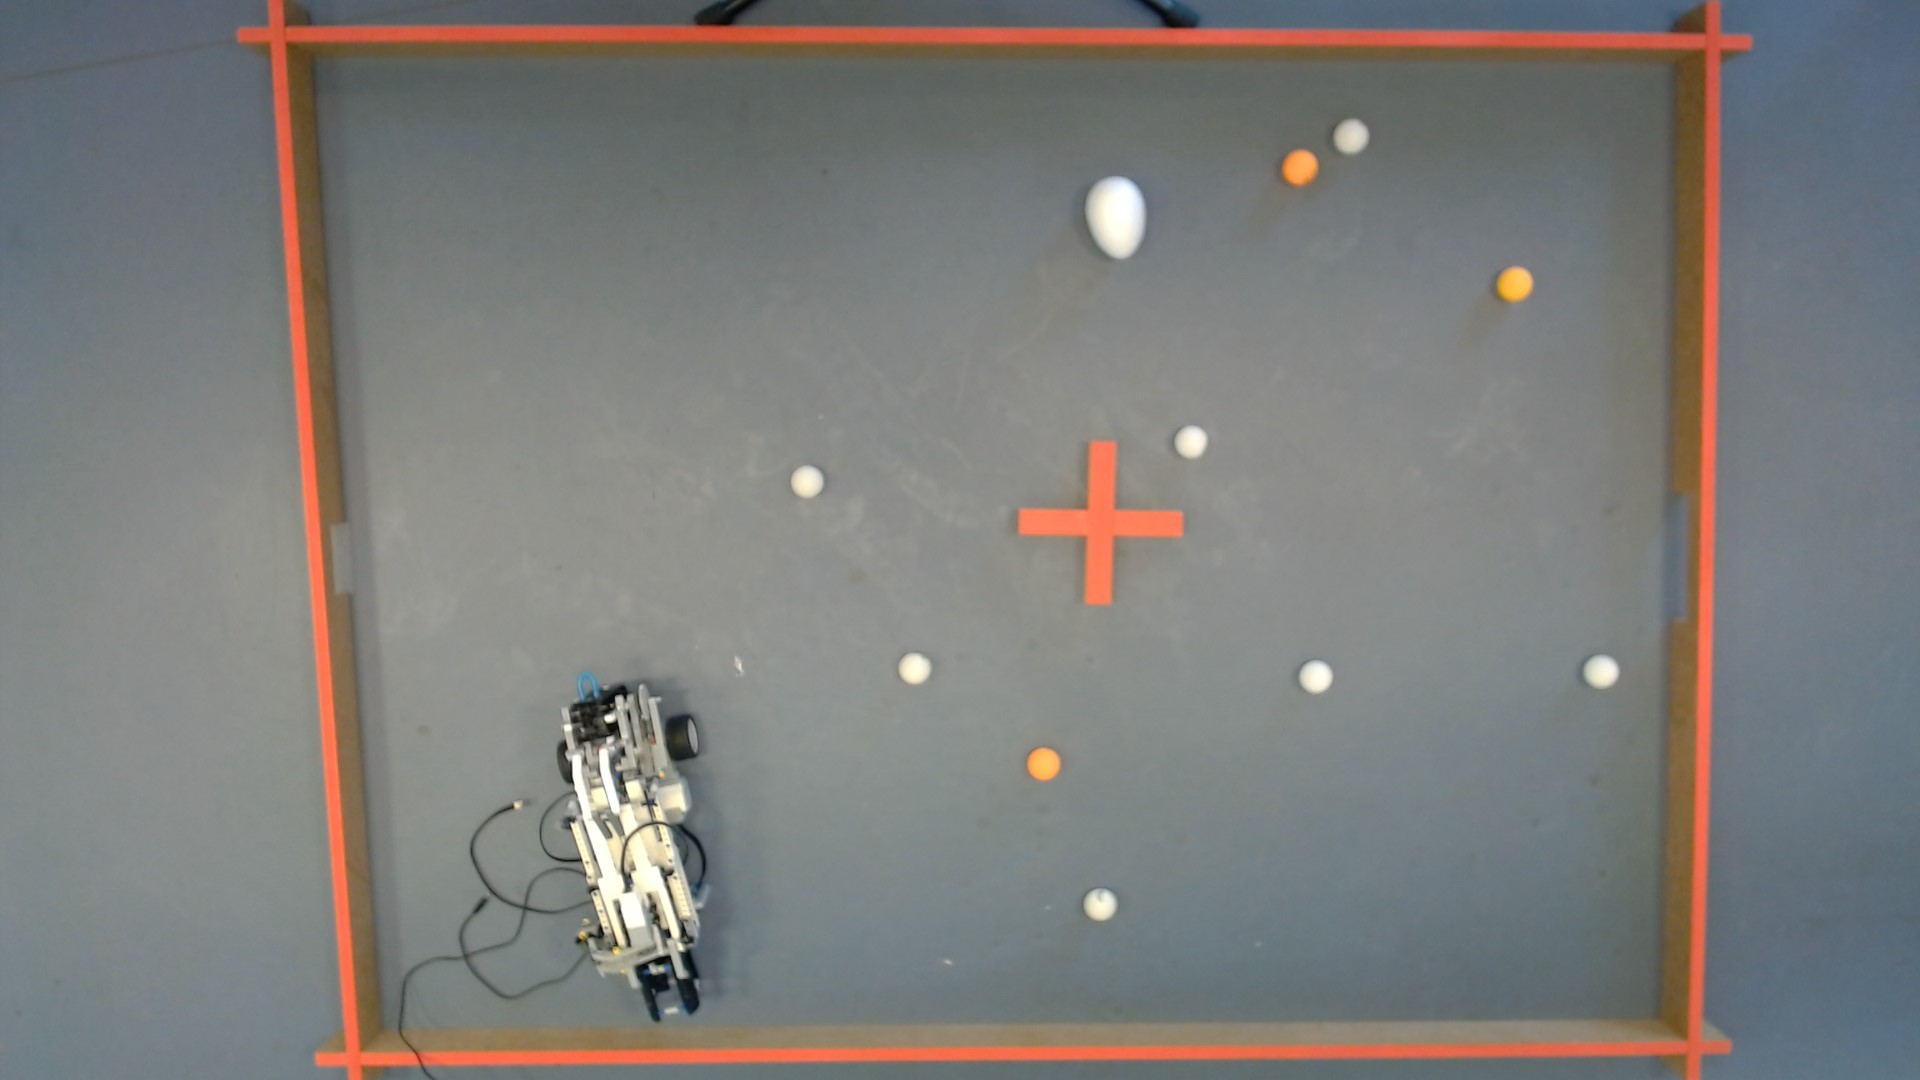Opingpong: (1274, 145, 1323, 190), (1491, 264, 1538, 307), (1025, 746, 1064, 785)
Wpingpong: (1327, 112, 1375, 160), (1168, 419, 1213, 464), (1294, 655, 1337, 698), (1580, 650, 1625, 691), (785, 462, 827, 502), (891, 650, 936, 688), (1077, 886, 1122, 924)
arena: (222, 9, 404, 1080), (235, 1004, 1774, 1080), (1651, 5, 1747, 1080), (195, 21, 1776, 79)
car: (506, 646, 767, 1031)
cross: (992, 430, 1193, 625)
egg: (1080, 167, 1154, 266)
